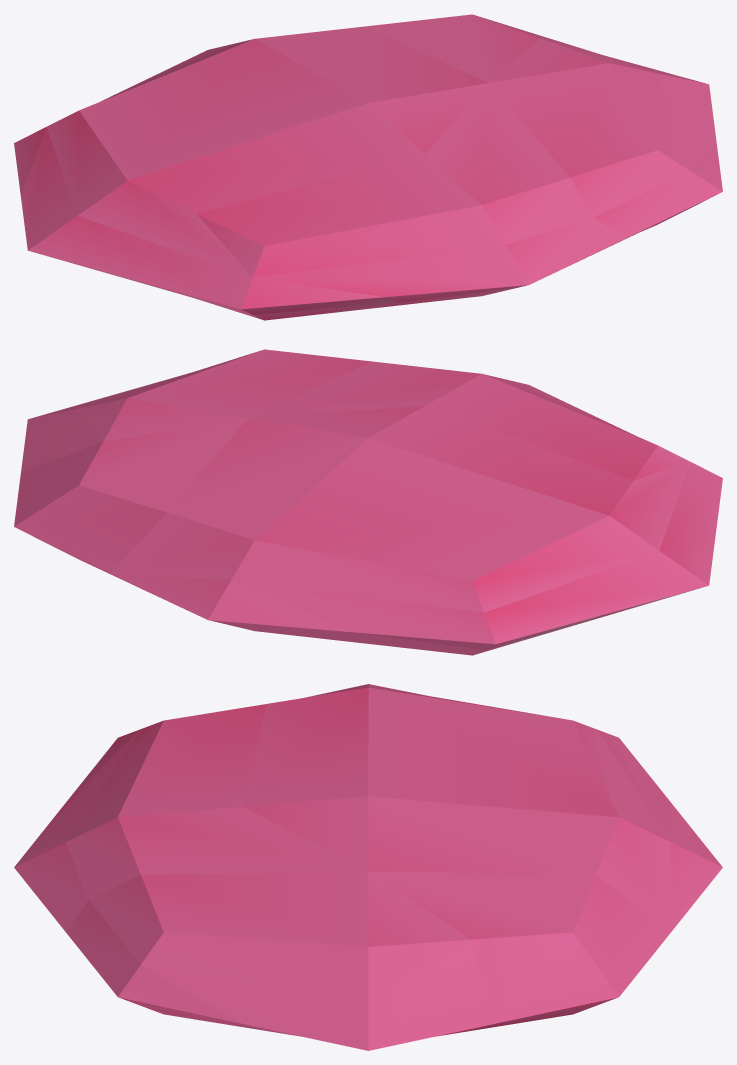
The model's file is ItemBox.fbx.
3 renders of one model, top to bottom at view 1: azimuth 30°, elevation 25°; view 2: azimuth 150°, elevation 25°; view 3: azimuth 270°, elevation 25°, orthographic. The views are drawn at different scales.
Visible parts, largest first — view 1: Cube; view 2: Cube; view 3: Cube.
Part boxes in pixels (x1,y1,x2,y2): Cube: (14, 14, 722, 320); Cube: (14, 349, 722, 655); Cube: (14, 684, 722, 1050).
Size of the model in its own units: 800 by 145 by 653.
